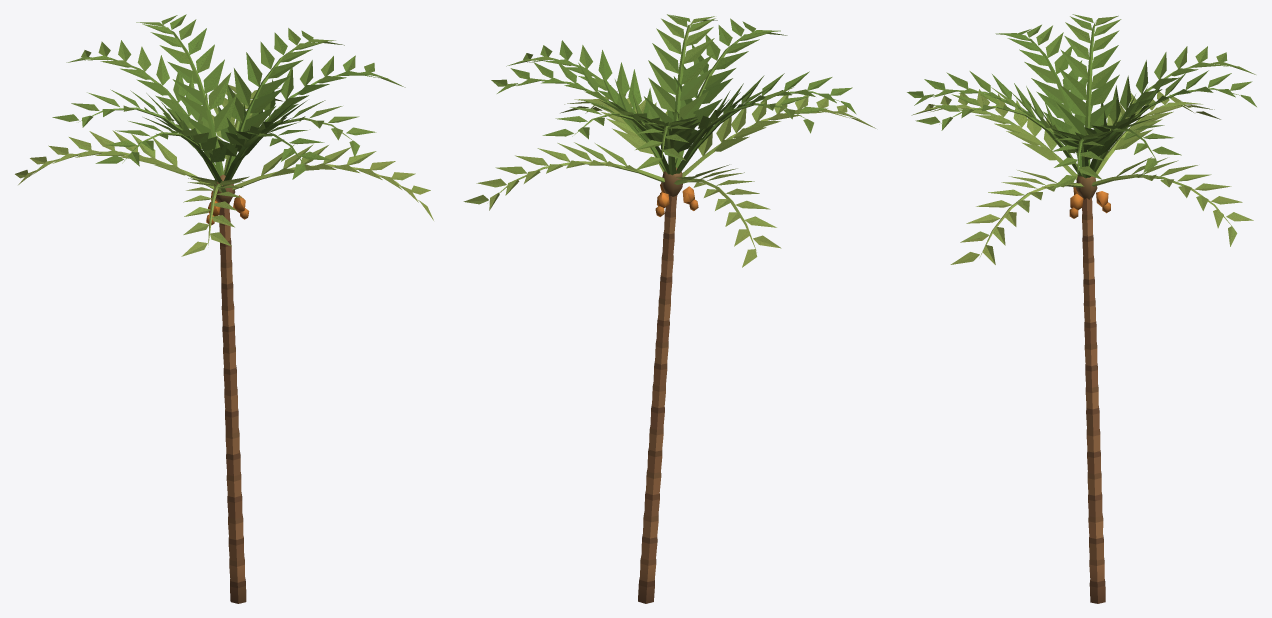
Rendered from date-palm.glb.
3 renders of one model, left to right at view 1: azimuth 30°, elevation 25°; view 2: azimuth 150°, elevation 25°; view 3: azimuth 270°, elevation 25°, orthographic. The views are drawn at different scales.
Visible parts, largest first — view 1: date-palm; view 2: date-palm; view 3: date-palm.
Part boxes in pixels (bbox=[...]): date-palm: bbox=[15, 14, 433, 603]; date-palm: bbox=[463, 14, 875, 603]; date-palm: bbox=[907, 14, 1256, 603].
Size of the model in its own units: 3.88 by 6.13 by 3.77.
